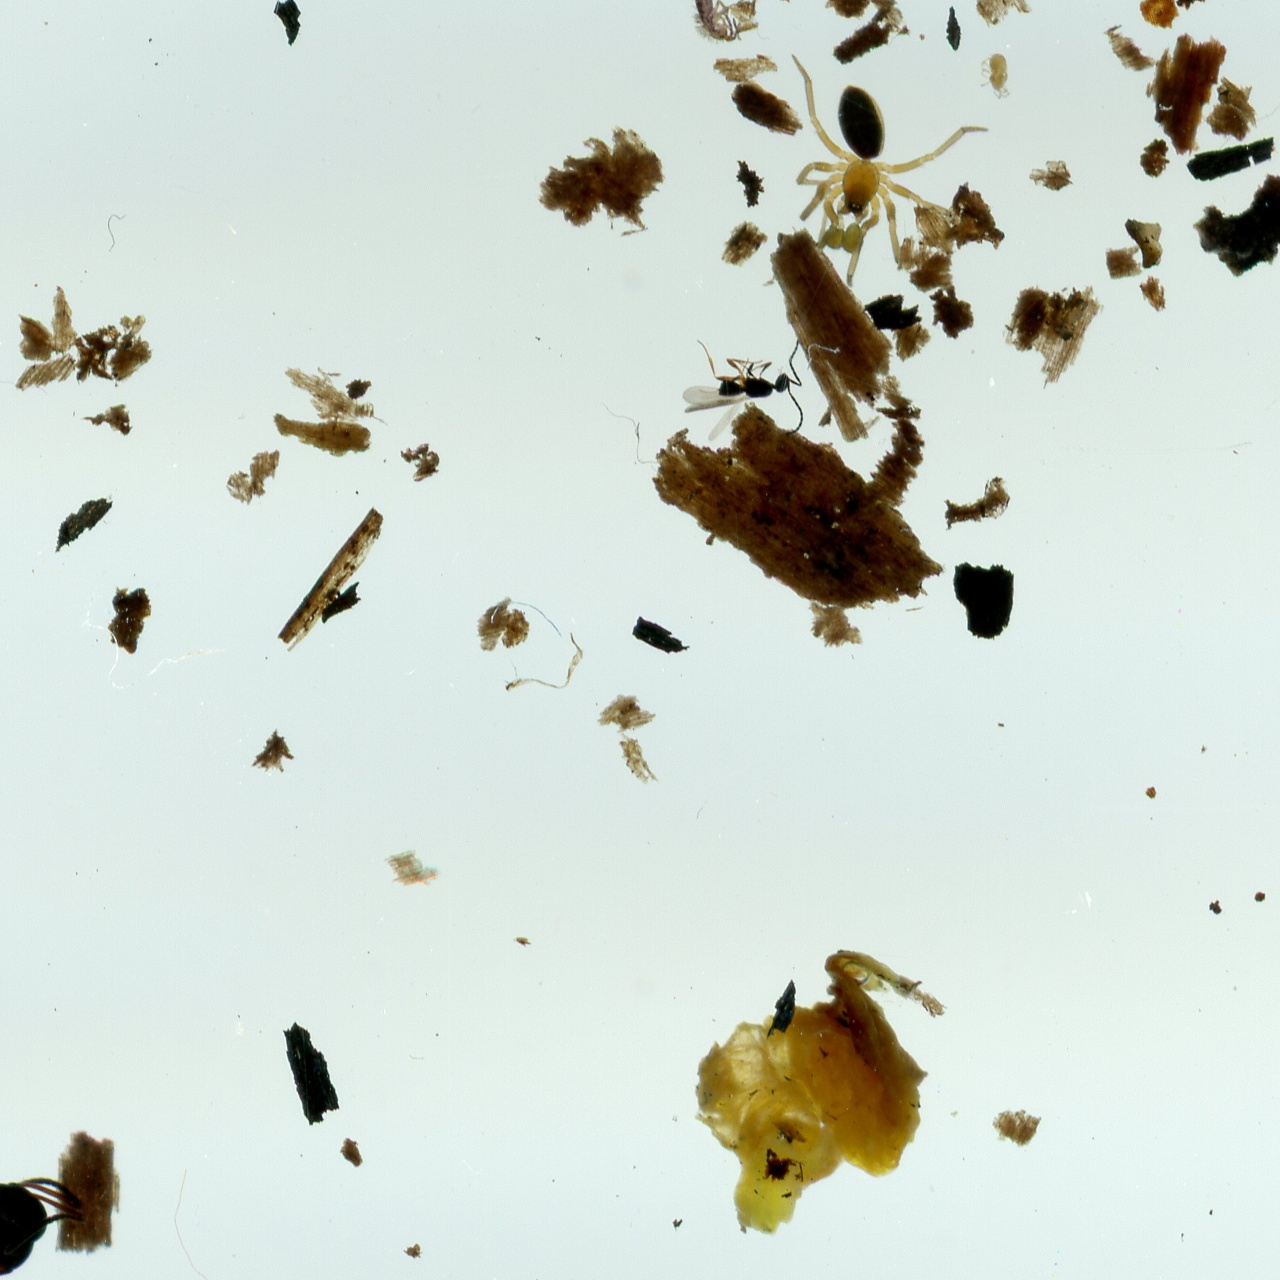arthropod: (783, 54, 991, 294), (0, 1097, 99, 1280), (682, 337, 806, 445), (680, 0, 745, 51), (979, 52, 1012, 102)
